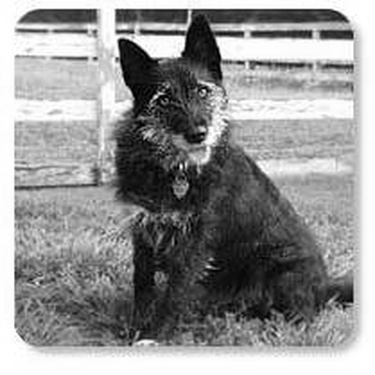dog: (84, 8, 362, 362)
